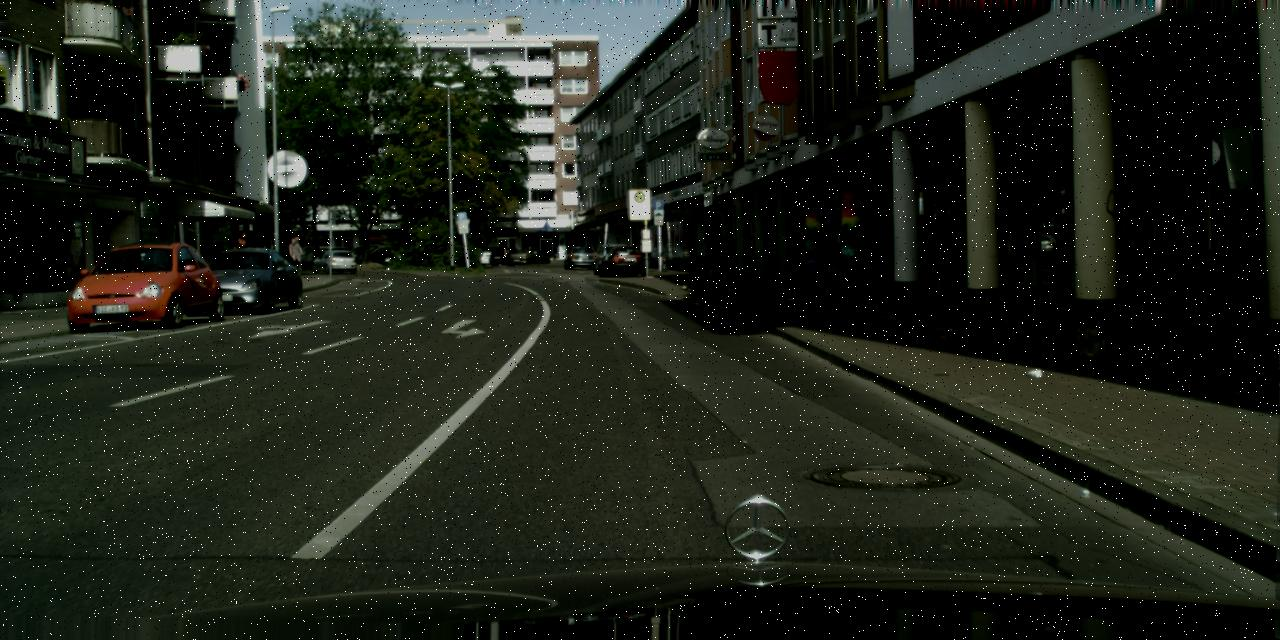ped: (833, 218, 865, 298), (231, 232, 251, 282), (288, 238, 301, 270)
